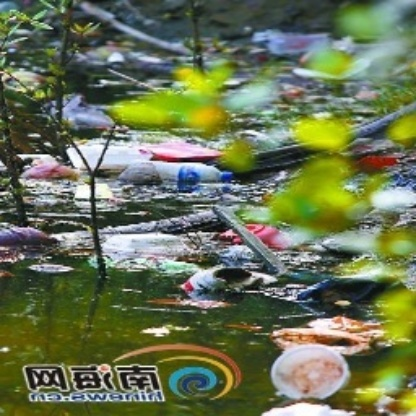bottle: (154, 160, 238, 187)
plastic-bag: (272, 309, 378, 352)
